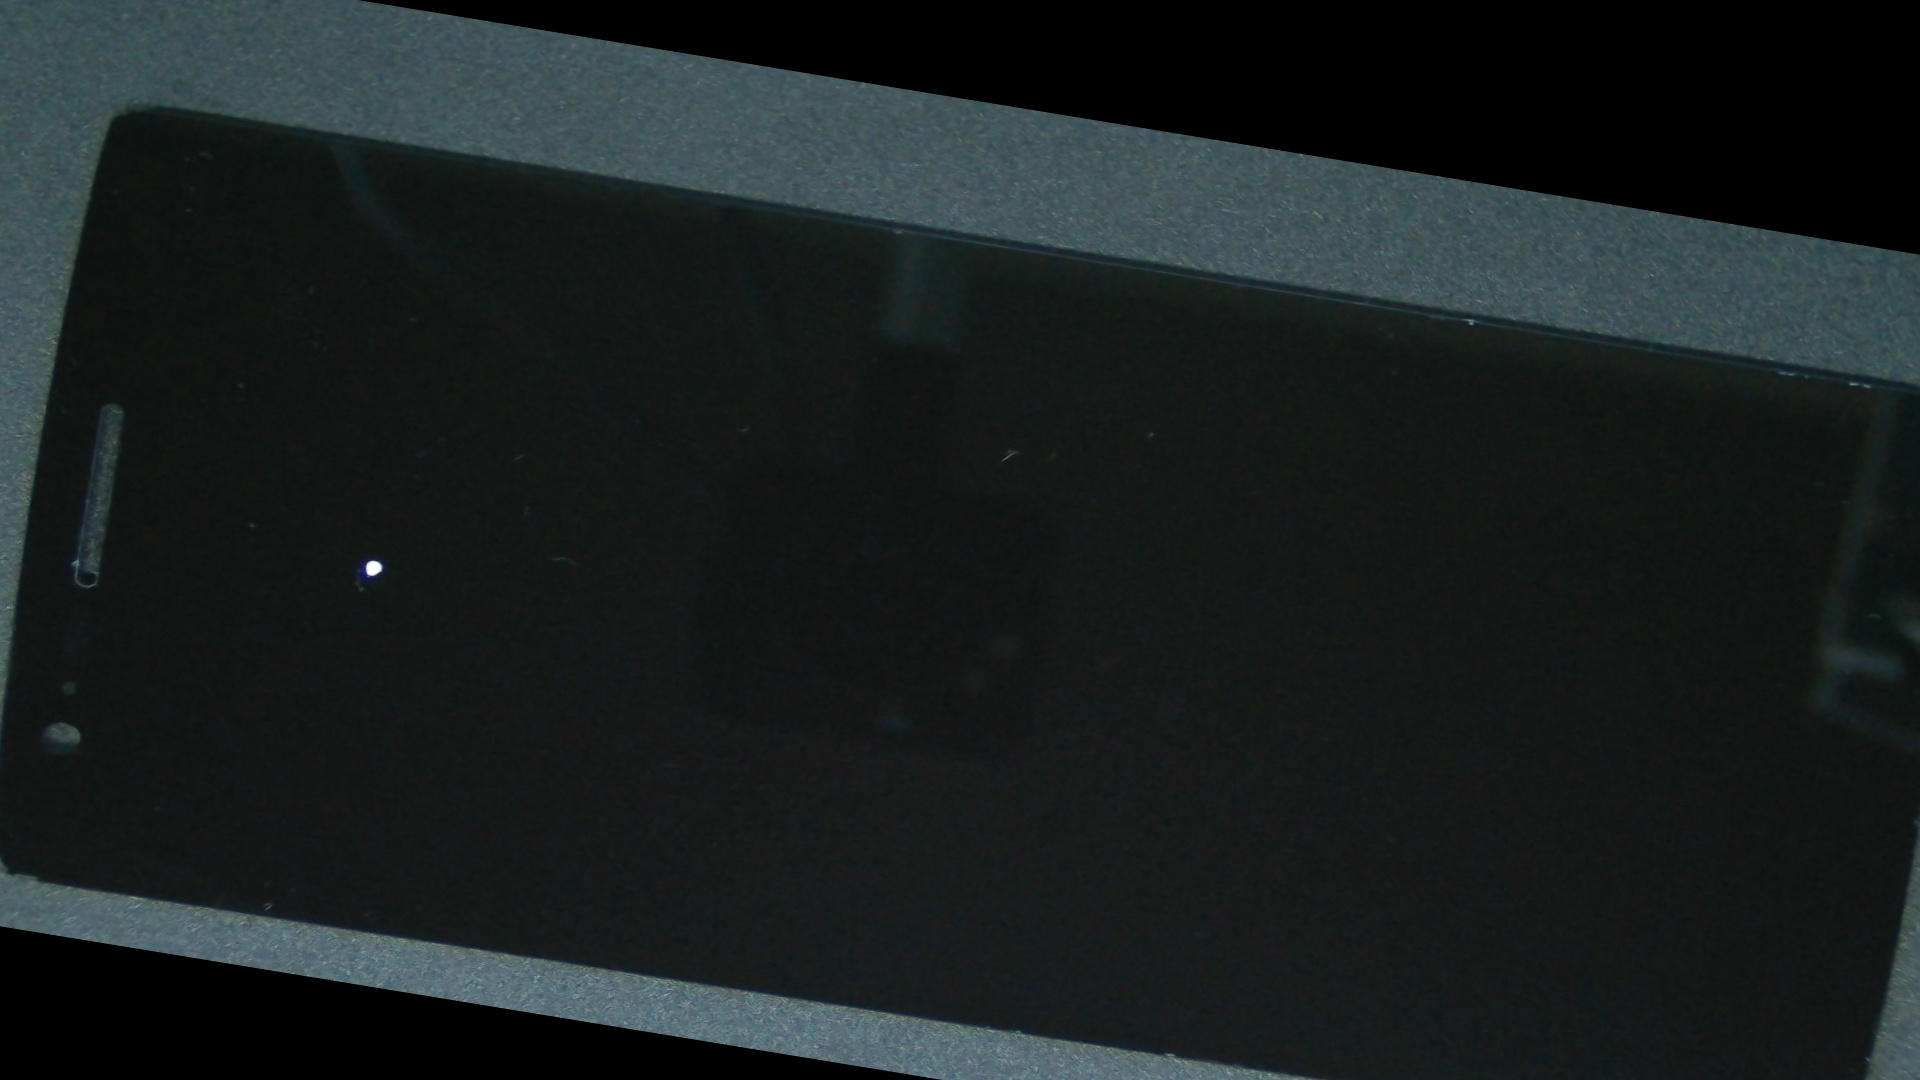oil: (96, 249, 644, 869)
